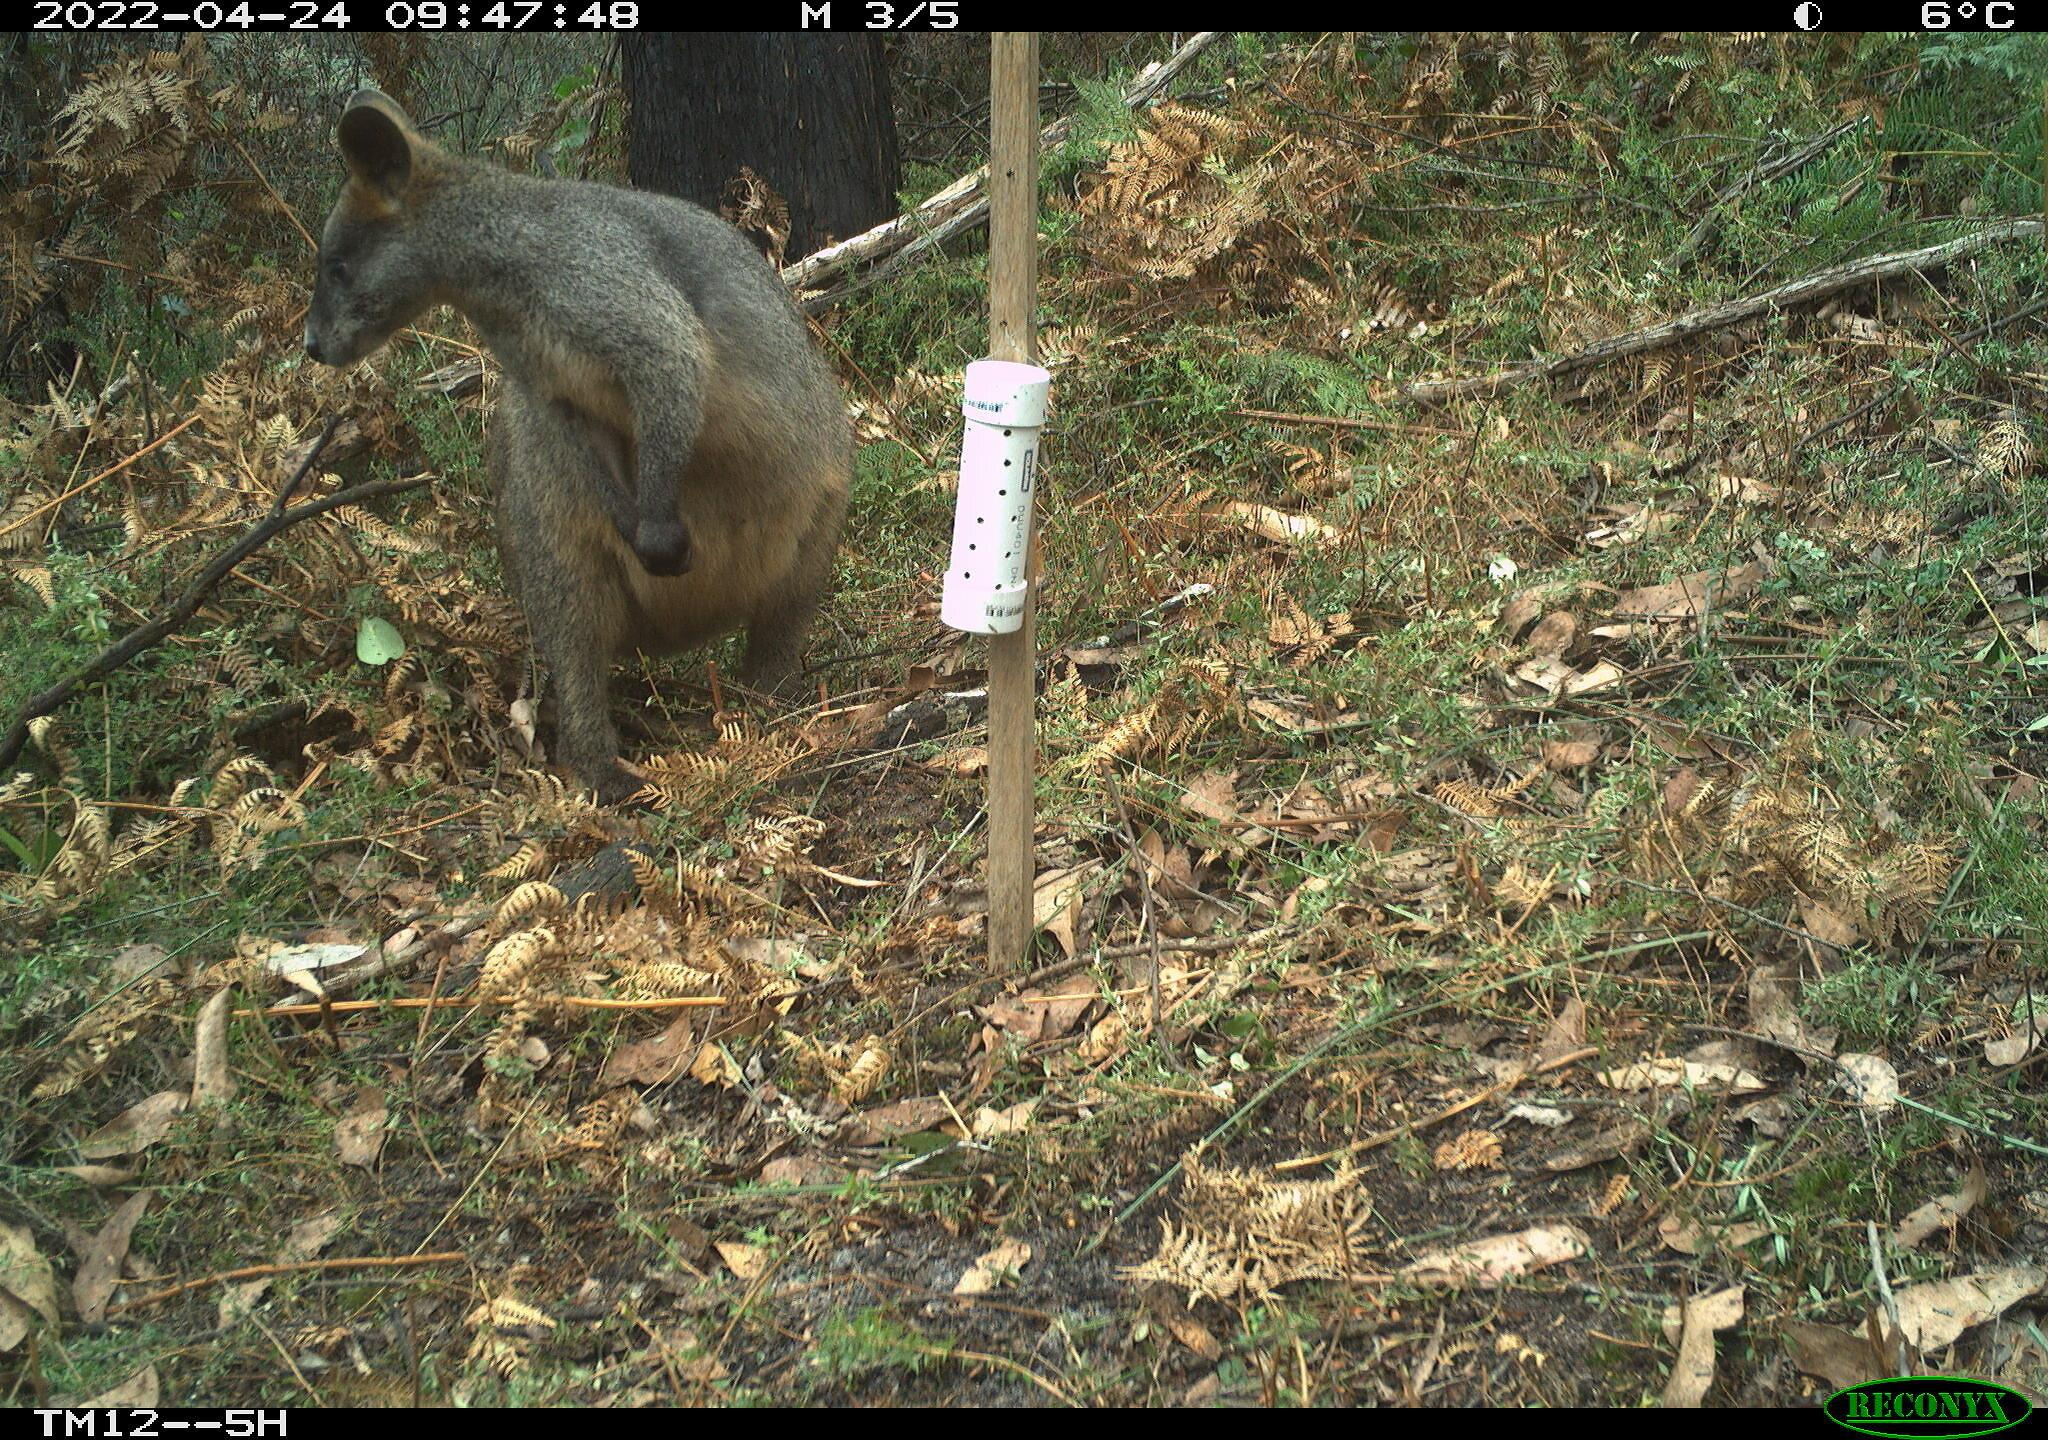Swamp wallaby: (302, 84, 934, 849)
